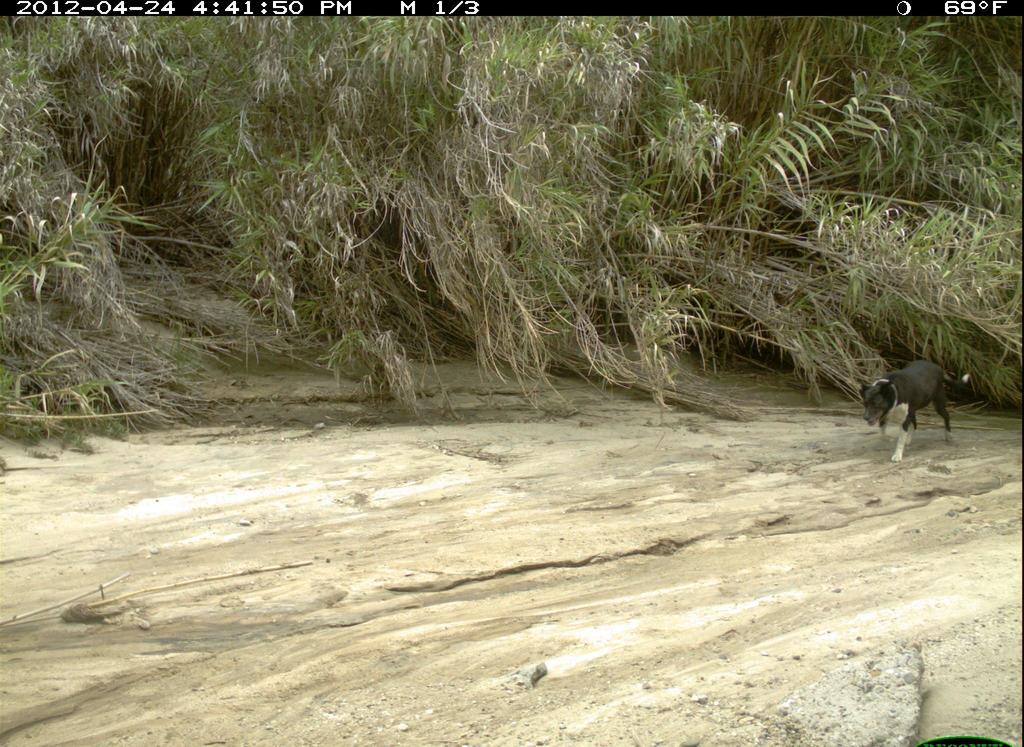dog: (853, 354, 977, 472)
